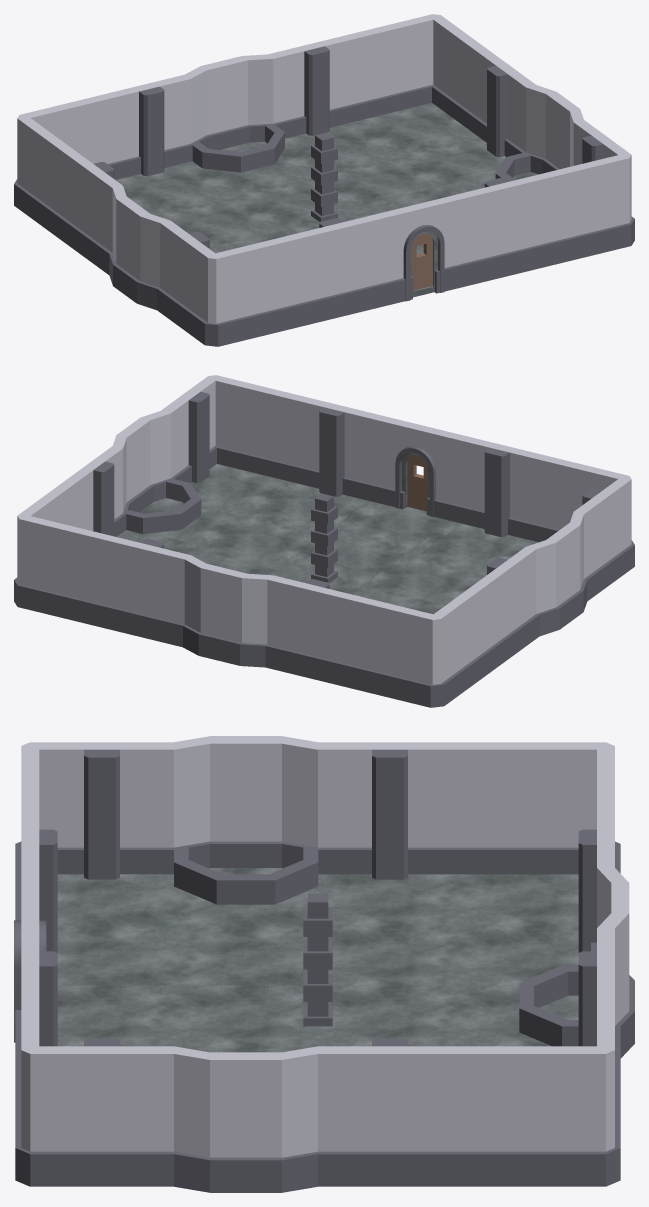
File: room_sm_03.fbx
3 views of the same model, one above another, from view 1: azimuth 30°, elevation 25°; view 2: azimuth 150°, elevation 25°; view 3: azimuth 270°, elevation 25° (orthographic). The views are drawn at different scales.
Parts seen in each view (by area): view 1: floor_01_80, wall_01_40, wall_01_39, wall_02_38, wall_02_37, door_01_23, wall_02_90, wall_02_89, wall_03_84, floor_01_81, wall_01_46, floor_05_79 (+15 smaller); view 2: wall_01_45, wall_02_90, wall_02_89, wall_03_84, wall_01_46, wall_02_38, wall_02_37, door_01_23, floor_04_2, wall_01_39, floor_05_77, floor_04_75 (+15 smaller); view 3: floor_01_81, wall_01_91, wall_02_85, wall_02_88, wall_03_82, wall_02_87, wall_03_83, wall_02_86, wall_01_92, floor_04_2, floor_04_76, floor_05_79 (+14 smaller).
Boxes of the visible parts, x1,y1,x2,y2 form: floor_01_80: [283, 103, 505, 209]; wall_01_40: [205, 234, 301, 346]; wall_01_39: [539, 154, 634, 265]; wall_02_38: [291, 214, 383, 326]; wall_02_37: [458, 174, 549, 286]; door_01_23: [374, 194, 466, 306]; wall_02_90: [102, 74, 192, 179]; wall_02_89: [267, 34, 358, 138]; wall_03_84: [183, 54, 276, 149]; floor_01_81: [115, 161, 288, 246]; wall_01_46: [348, 14, 440, 120]; floor_05_79: [188, 141, 370, 229]; wall_01_45: [347, 595, 443, 707]; wall_02_90: [265, 575, 357, 687]; wall_02_89: [99, 535, 192, 647]; wall_03_84: [182, 555, 275, 667]; wall_01_46: [17, 515, 109, 626]; wall_02_38: [456, 435, 548, 542]; wall_02_37: [290, 395, 383, 501]; door_01_23: [372, 415, 464, 521]; floor_04_2: [278, 501, 460, 590]; wall_01_39: [208, 375, 299, 481]; floor_05_77: [124, 498, 314, 570]; floor_04_75: [191, 464, 368, 532]; floor_01_81: [309, 874, 578, 993]; wall_01_91: [454, 1046, 620, 1186]; wall_02_85: [16, 1038, 178, 1186]; wall_02_88: [309, 1038, 470, 1186]; wall_03_82: [165, 1046, 325, 1192]; wall_02_87: [310, 742, 470, 879]; wall_03_83: [166, 736, 326, 868]; wall_02_86: [16, 742, 182, 879]; wall_01_92: [456, 742, 617, 874]; floor_04_2: [57, 985, 326, 1052]; floor_04_76: [57, 874, 182, 992]; floor_05_79: [309, 985, 578, 1047].
Bounding box in the file's own units: 54.05 × 10 × 43.15.
